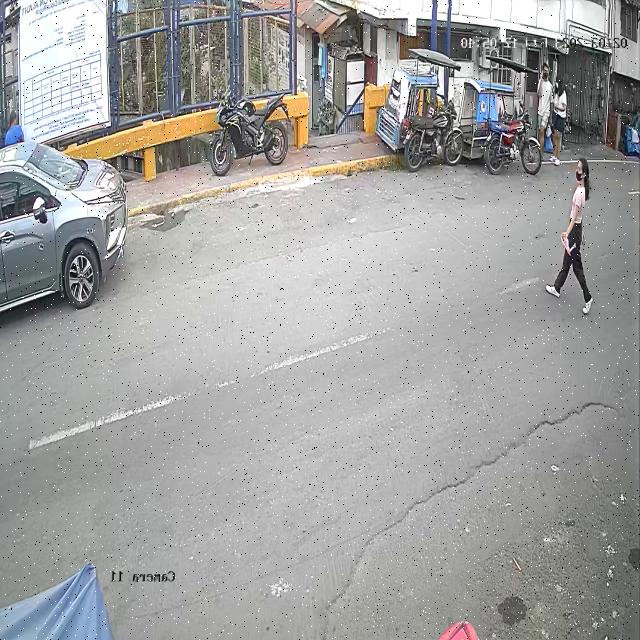garbage_dumping: (560, 230, 578, 259)
